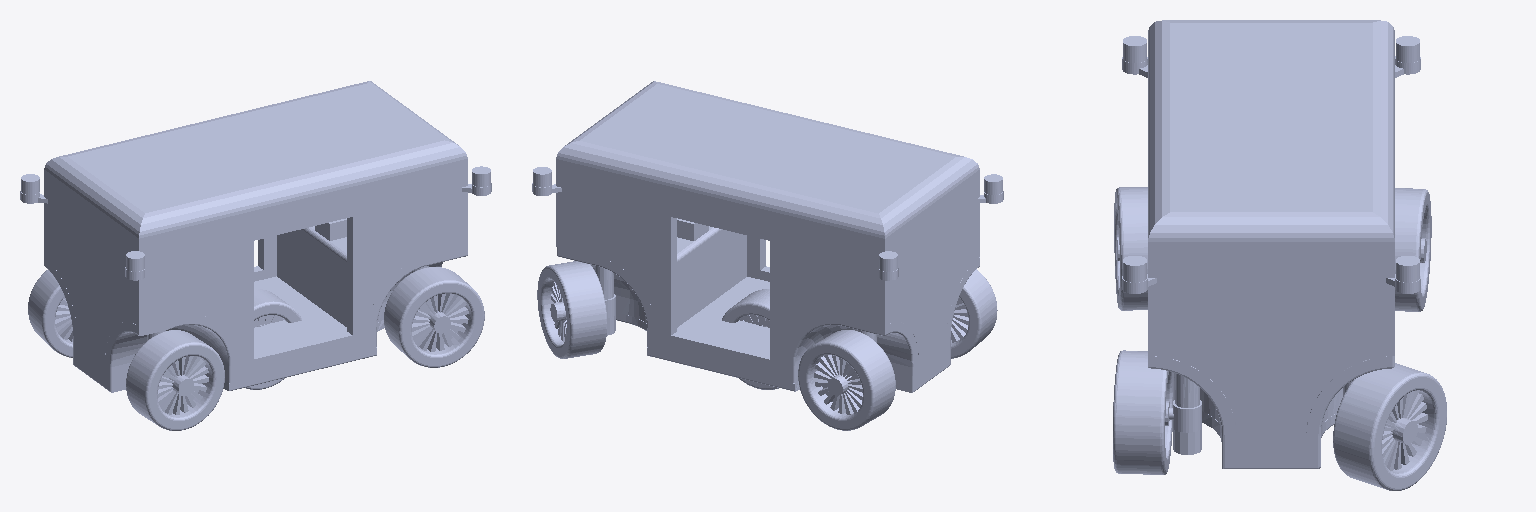
robot.urdf — robotaxi:
<?xml version="1.0" encoding="utf-8"?>
<!-- This URDF was automatically created by SolidWorks to URDF Exporter! Originally created by [author] ([email redacted]) 
     Commit Version: 1.6.0-4-g7f85cfe  Build Version: 1.6.7995.38578
     For more information, please see http://wiki.ros.org/sw_urdf_exporter -->
<robot
  name="robotaxi">
  <link
    name="body">
    <inertial>
      <origin
        xyz="-3.40969326113787E-05 -1.55139179626814E-05 0.984476420828284"
        rpy="0 0 0" />
      <mass
        value="7062.99841256932" />
      <inertia
        ixx="2779.69153524293"
        ixy="0.0130537985025844"
        ixz="-0.074560285709414"
        iyy="11898.0975209909"
        iyz="-0.0273565484571444"
        izz="12806.0341693142" />
    </inertial>
    <visual>
      <origin
        xyz="0 0 0"
        rpy="0 0 0" />
      <geometry>
        <mesh
          filename="package://robotaxi/meshes/body.STL" />
      </geometry>
      <material
        name="">
        <color
          rgba="0.792156862745098 0.819607843137255 0.933333333333333 1" />
      </material>
    </visual>
    <collision>
      <origin
        xyz="0 0 0"
        rpy="0 0 0" />
      <geometry>
        <mesh
          filename="package://robotaxi/meshes/body.STL" />
      </geometry>
    </collision>
  </link>
  <link
    name="front_right_axel">
    <inertial>
      <origin
        xyz="1.59254307730881 -0.770387884139879 0.306936663484025"
        rpy="0 0 0" />
      <mass
        value="4.73802510796172" />
      <inertia
        ixx="0.0990829916203824"
        ixy="-0.00564103885906436"
        ixz="0.000108229508691783"
        iyy="0.0311714791660352"
        iyz="0.00131190404983014"
        izz="0.106577267989412" />
    </inertial>
    <visual>
      <origin
        xyz="0 0 0"
        rpy="0 0 0" />
      <geometry>
        <mesh
          filename="package://robotaxi/meshes/front_right_axel.STL" />
      </geometry>
      <material
        name="">
        <color
          rgba="0.792156862745098 0.819607843137255 0.933333333333333 1" />
      </material>
    </visual>
    <collision>
      <origin
        xyz="0 0 0"
        rpy="0 0 0" />
      <geometry>
        <mesh
          filename="package://robotaxi/meshes/front_right_axel.STL" />
      </geometry>
    </collision>
  </link>
  <joint
    name="front_right_axel_joint"
    type="revolute">
    <origin
      xyz="0 0 0"
      rpy="0 0 0" />
    <parent
      link="body" />
    <child
      link="front_right_axel" />
    <axis
      xyz="0 0 1" />
    <limit
      lower="0"
      upper="0"
      effort="0"
      velocity="0" />
  </joint>
  <link
    name="front_right_wheel">
    <inertial>
      <origin
        xyz="-1.58019056769578 -1.04124193078514 0.309999999999997"
        rpy="0 0 0" />
      <mass
        value="220.204654088327" />
      <inertia
        ixx="19.6593954325899"
        ixy="-0.775721213261626"
        ixz="-1.12534049438089E-15"
        iyy="33.7627965853084"
        iyz="5.12575321634251E-14"
        izz="19.6168571900673" />
    </inertial>
    <visual>
      <origin
        xyz="0 0 0"
        rpy="0 0 0" />
      <geometry>
        <mesh
          filename="package://robotaxi/meshes/front_right_wheel.STL" />
      </geometry>
      <material
        name="">
        <color
          rgba="0.792156862745098 0.819607843137255 0.933333333333333 1" />
      </material>
    </visual>
    <collision>
      <origin
        xyz="0 0 0"
        rpy="0 0 0" />
      <geometry>
        <mesh
          filename="package://robotaxi/meshes/front_right_wheel.STL" />
      </geometry>
    </collision>
  </link>
  <joint
    name="front_right_wheel_joint"
    type="revolute">
    <origin
      xyz="0 0 0"
      rpy="0 0 0" />
    <parent
      link="front_right_axel" />
    <child
      link="front_right_wheel" />
    <axis
      xyz="0.08222 0.99661 0" />
    <limit
      lower="0"
      upper="0"
      effort="0"
      velocity="0" />
  </joint>
  <link
    name="front_left_axel">
    <inertial>
      <origin
        xyz="1.6565368692559 0.750916554199098 0.30693666413595"
        rpy="0 0 0" />
      <mass
        value="4.73802513910441" />
      <inertia
        ixx="0.0727966036899852"
        ixy="-0.033555856058096"
        ixz="-0.0008205838617529"
        iyy="0.0574578673139121"
        iyz="-0.00102929493752076"
        izz="0.106577268204647" />
    </inertial>
    <visual>
      <origin
        xyz="0 0 0"
        rpy="0 0 0" />
      <geometry>
        <mesh
          filename="package://robotaxi/meshes/front_left_axel.STL" />
      </geometry>
      <material
        name="">
        <color
          rgba="0.792156862745098 0.819607843137255 0.933333333333333 1" />
      </material>
    </visual>
    <collision>
      <origin
        xyz="0 0 0"
        rpy="0 0 0" />
      <geometry>
        <mesh
          filename="package://robotaxi/meshes/front_left_axel.STL" />
      </geometry>
    </collision>
  </link>
  <joint
    name="front_left_axel_joint"
    type="revolute">
    <origin
      xyz="0 0 0"
      rpy="0 0 0" />
    <parent
      link="body" />
    <child
      link="front_left_axel" />
    <axis
      xyz="0 0 1" />
    <limit
      lower="0"
      upper="0"
      effort="0"
      velocity="0" />
  </joint>
  <link
    name="front_left_wheel">
    <inertial>
      <origin
        xyz="1.82552714195732 0.962888059850802 0.310000000000004"
        rpy="0 0 0" />
      <mass
        value="220.204654088327" />
      <inertia
        ixx="25.1304300235974"
        ixy="6.91590337281264"
        ixz="2.62007454425615E-14"
        iyy="28.2917619943008"
        iyz="3.1857375012075E-14"
        izz="19.6168571900673" />
    </inertial>
    <visual>
      <origin
        xyz="0 0 0"
        rpy="0 0 0" />
      <geometry>
        <mesh
          filename="package://robotaxi/meshes/front_left_wheel.STL" />
      </geometry>
      <material
        name="">
        <color
          rgba="0.792156862745098 0.819607843137255 0.933333333333333 1" />
      </material>
    </visual>
    <collision>
      <origin
        xyz="0 0 0"
        rpy="0 0 0" />
      <geometry>
        <mesh
          filename="package://robotaxi/meshes/front_left_wheel.STL" />
      </geometry>
    </collision>
  </link>
  <joint
    name="front_left_wheel_joint"
    type="revolute">
    <origin
      xyz="0 0 0"
      rpy="0 0 0" />
    <parent
      link="front_left_axel" />
    <child
      link="front_left_wheel" />
    <axis
      xyz="-0.62337 -0.78192 0" />
    <limit
      lower="0"
      upper="0"
      effort="0"
      velocity="0" />
  </joint>
  <link
    name="back_left_axel">
    <inertial>
      <origin
        xyz="-1.59022260058956 0.770166389684527 0.306936663157127"
        rpy="0 0 0" />
      <mass
        value="4.73802514179161" />
      <inertia
        ixx="0.0987482879826517"
        ixy="-0.00737831489877384"
        ixz="-0.000141909273981146"
        iyy="0.0315061827691447"
        iyz="-0.00130868926283995"
        izz="0.106577267921633" />
    </inertial>
    <visual>
      <origin
        xyz="0 0 0"
        rpy="0 0 0" />
      <geometry>
        <mesh
          filename="package://robotaxi/meshes/back_left_axel.STL" />
      </geometry>
      <material
        name="">
        <color
          rgba="0.792156862745098 0.819607843137255 0.933333333333333 1" />
      </material>
    </visual>
    <collision>
      <origin
        xyz="0 0 0"
        rpy="0 0 0" />
      <geometry>
        <mesh
          filename="package://robotaxi/meshes/back_left_axel.STL" />
      </geometry>
    </collision>
  </link>
  <joint
    name="back_left_axel_joint"
    type="revolute">
    <origin
      xyz="0 0 0"
      rpy="0 0 0" />
    <parent
      link="body" />
    <child
      link="back_left_axel" />
    <axis
      xyz="0 0 1" />
    <limit
      lower="0"
      upper="0"
      effort="0"
      velocity="0" />
  </joint>
  <link
    name="back_left_wheel">
    <inertial>
      <origin
        xyz="-1.56099765956285 1.03967619271508 0.310000000000004"
        rpy="0 0 0" />
      <mass
        value="220.204654088326" />
      <inertia
        ixx="19.7817557340667"
        ixy="1.52068003676715"
        ixz="-1.46712089567244E-16"
        iyy="33.6404362838315"
        iyz="5.3547004248261E-14"
        izz="19.6168571900673" />
    </inertial>
    <visual>
      <origin
        xyz="0 0 0"
        rpy="0 0 0" />
      <geometry>
        <mesh
          filename="package://robotaxi/meshes/back_left_wheel.STL" />
      </geometry>
      <material
        name="">
        <color
          rgba="0.792156862745098 0.819607843137255 0.933333333333333 1" />
      </material>
    </visual>
    <collision>
      <origin
        xyz="0 0 0"
        rpy="0 0 0" />
      <geometry>
        <mesh
          filename="package://robotaxi/meshes/back_left_wheel.STL" />
      </geometry>
    </collision>
  </link>
  <joint
    name="back_left_wheel_joint"
    type="revolute">
    <origin
      xyz="0 0 0"
      rpy="0 0 0" />
    <parent
      link="back_left_axel" />
    <child
      link="back_left_wheel" />
    <axis
      xyz="-0.10781 -0.99417 0" />
    <limit
      lower="0"
      upper="0"
      effort="0"
      velocity="0" />
  </joint>
  <link
    name="back_right_axel">
    <inertial>
      <origin
        xyz="-1.59503401167827 -0.770558897464385 0.306936665235939"
        rpy="0 0 0" />
      <mass
        value="4.73802497254448" />
      <inertia
        ixx="0.0993419772005463"
        ixy="0.00376378875483251"
        ixz="-7.20785636933185E-05"
        iyy="0.0309124938085499"
        iyz="0.00131438606605443"
        izz="0.106577268357977" />
    </inertial>
    <visual>
      <origin
        xyz="0 0 0"
        rpy="0 0 0" />
      <geometry>
        <mesh
          filename="package://robotaxi/meshes/back_right_axel.STL" />
      </geometry>
      <material
        name="">
        <color
          rgba="0.792156862745098 0.819607843137255 0.933333333333333 1" />
      </material>
    </visual>
    <collision>
      <origin
        xyz="0 0 0"
        rpy="0 0 0" />
      <geometry>
        <mesh
          filename="package://robotaxi/meshes/back_right_axel.STL" />
      </geometry>
    </collision>
  </link>
  <joint
    name="back_right_axel_joint"
    type="revolute">
    <origin
      xyz="0 0 0"
      rpy="0 0 0" />
    <parent
      link="body" />
    <child
      link="back_right_axel" />
    <axis
      xyz="0 0 1" />
    <limit
      lower="0"
      upper="0"
      effort="0"
      velocity="0" />
  </joint>
  <link
    name="back_right_wheel">
    <inertial>
      <origin
        xyz="-1.58019056769578 -1.04124193078514 0.309999999999997"
        rpy="0 0 0" />
      <mass
        value="220.204654088327" />
      <inertia
        ixx="19.6593954325899"
        ixy="-0.775721213261626"
        ixz="-1.12757594335517E-15"
        iyy="33.7627965853084"
        iyz="5.12534151456868E-14"
        izz="19.6168571900673" />
    </inertial>
    <visual>
      <origin
        xyz="0 0 0"
        rpy="0 0 0" />
      <geometry>
        <mesh
          filename="package://robotaxi/meshes/back_right_wheel.STL" />
      </geometry>
      <material
        name="">
        <color
          rgba="0.792156862745098 0.819607843137255 0.933333333333333 1" />
      </material>
    </visual>
    <collision>
      <origin
        xyz="0 0 0"
        rpy="0 0 0" />
      <geometry>
        <mesh
          filename="package://robotaxi/meshes/back_right_wheel.STL" />
      </geometry>
    </collision>
  </link>
  <joint
    name="back_right_wheel_joint"
    type="revolute">
    <origin
      xyz="0 0 0"
      rpy="0 0 0" />
    <parent
      link="back_right_axel" />
    <child
      link="back_right_wheel" />
    <axis
      xyz="-0.054755 0.9985 0" />
    <limit
      lower="0"
      upper="0"
      effort="0"
      velocity="0" />
  </joint>
  <link
    name="lidar_front_right">
    <inertial>
      <origin
        xyz="2.10240622729717 -1.10240622729716 1.78815355406656"
        rpy="0 0 0" />
      <mass
        value="8.51764060451499" />
      <inertia
        ixx="0.0642189157299355"
        ixy="-0.000191353707477662"
        ixz="0.00017449312202714"
        iyy="0.0642189157299355"
        iyz="-0.000174493122027057"
        izz="0.0429541548113749" />
    </inertial>
    <visual>
      <origin
        xyz="0 0 0"
        rpy="0 0 0" />
      <geometry>
        <mesh
          filename="package://robotaxi/meshes/lidar_front_right.STL" />
      </geometry>
      <material
        name="">
        <color
          rgba="0.792156862745098 0.819607843137255 0.933333333333333 1" />
      </material>
    </visual>
    <collision>
      <origin
        xyz="0 0 0"
        rpy="0 0 0" />
      <geometry>
        <mesh
          filename="package://robotaxi/meshes/lidar_front_right.STL" />
      </geometry>
    </collision>
  </link>
  <joint
    name="lidar_front_right_joint"
    type="fixed">
    <origin
      xyz="0 0 0"
      rpy="0 0 0" />
    <parent
      link="body" />
    <child
      link="lidar_front_right" />
    <axis
      xyz="0 0 0" />
  </joint>
  <link
    name="lidar_front_left">
    <inertial>
      <origin
        xyz="2.10240622729716 1.10240622729716 1.78815355406657"
        rpy="0 0 0" />
      <mass
        value="8.51764060451499" />
      <inertia
        ixx="0.0642189157299355"
        ixy="0.00019135370747766"
        ixz="0.000174493122027142"
        iyy="0.0642189157299355"
        iyz="0.000174493122027216"
        izz="0.0429541548113749" />
    </inertial>
    <visual>
      <origin
        xyz="0 0 0"
        rpy="0 0 0" />
      <geometry>
        <mesh
          filename="package://robotaxi/meshes/lidar_front_left.STL" />
      </geometry>
      <material
        name="">
        <color
          rgba="0.792156862745098 0.819607843137255 0.933333333333333 1" />
      </material>
    </visual>
    <collision>
      <origin
        xyz="0 0 0"
        rpy="0 0 0" />
      <geometry>
        <mesh
          filename="package://robotaxi/meshes/lidar_front_left.STL" />
      </geometry>
    </collision>
  </link>
  <joint
    name="lidar_front_left_joint"
    type="fixed">
    <origin
      xyz="0 0 0"
      rpy="0 0 0" />
    <parent
      link="body" />
    <child
      link="lidar_front_left" />
    <axis
      xyz="0 0 0" />
  </joint>
  <link
    name="lidar_back_left">
    <inertial>
      <origin
        xyz="-2.10240622729717 1.10240622729715 1.78815355406657"
        rpy="0 0 0" />
      <mass
        value="8.51764060451498" />
      <inertia
        ixx="0.0642189157299355"
        ixy="-0.000191353707477656"
        ixz="-0.000174493122027137"
        iyy="0.0642189157299354"
        iyz="0.000174493122027215"
        izz="0.0429541548113749" />
    </inertial>
    <visual>
      <origin
        xyz="0 0 0"
        rpy="0 0 0" />
      <geometry>
        <mesh
          filename="package://robotaxi/meshes/lidar_back_left.STL" />
      </geometry>
      <material
        name="">
        <color
          rgba="0.792156862745098 0.819607843137255 0.933333333333333 1" />
      </material>
    </visual>
    <collision>
      <origin
        xyz="0 0 0"
        rpy="0 0 0" />
      <geometry>
        <mesh
          filename="package://robotaxi/meshes/lidar_back_left.STL" />
      </geometry>
    </collision>
  </link>
  <joint
    name="lidar_back_left_joint"
    type="fixed">
    <origin
      xyz="0 0 0"
      rpy="0 0 0" />
    <parent
      link="body" />
    <child
      link="lidar_back_left" />
    <axis
      xyz="0 0 0" />
  </joint>
  <link
    name="lidar_back_right">
    <inertial>
      <origin
        xyz="-2.10240622729716 -1.10240622729718 1.78815355406656"
        rpy="0 0 0" />
      <mass
        value="8.51764060451498" />
      <inertia
        ixx="0.0642189157299355"
        ixy="0.000191353707477663"
        ixz="-0.000174493122027135"
        iyy="0.0642189157299355"
        iyz="-0.000174493122027065"
        izz="0.0429541548113749" />
    </inertial>
    <visual>
      <origin
        xyz="0 0 0"
        rpy="0 0 0" />
      <geometry>
        <mesh
          filename="package://robotaxi/meshes/lidar_back_right.STL" />
      </geometry>
      <material
        name="">
        <color
          rgba="0.792156862745098 0.819607843137255 0.933333333333333 1" />
      </material>
    </visual>
    <collision>
      <origin
        xyz="0 0 0"
        rpy="0 0 0" />
      <geometry>
        <mesh
          filename="package://robotaxi/meshes/lidar_back_right.STL" />
      </geometry>
    </collision>
  </link>
  <joint
    name="lidar_back_right_joint"
    type="fixed">
    <origin
      xyz="0 0 0"
      rpy="0 0 0" />
    <parent
      link="body" />
    <child
      link="lidar_back_right" />
    <axis
      xyz="0 0 0" />
  </joint>
</robot>

--- Render facts (derived) ---
3 views of the same robot in one strip: view 1: azimuth 30°, elevation 25°; view 2: azimuth 150°, elevation 25°; view 3: azimuth 270°, elevation 25° (orthographic).
Robot: robotaxi — 13 links, 12 joints (8 revolute, 4 fixed); root link body; default pose: every joint at zero.
Visible links, largest first — view 1: back_right_axel, front_right_wheel; view 2: back_right_axel, front_left_wheel; view 3: back_right_axel, front_right_wheel.
Link boxes in pixels (x1,y1,x2,y2): back_right_axel: [20, 81, 491, 430]; front_right_wheel: [384, 267, 484, 367]; back_right_axel: [532, 81, 1003, 430]; front_left_wheel: [723, 289, 777, 389]; back_right_axel: [1114, 20, 1446, 490]; front_right_wheel: [1113, 350, 1173, 474].
Size in the robot's own frame: 4.55 by 2.71 by 2.72 metres.
Meshes: 13 distinct files referenced, 12 mesh visuals loaded (12 binary STL); not drawn: 1 (reference not matched to a file when rendering).